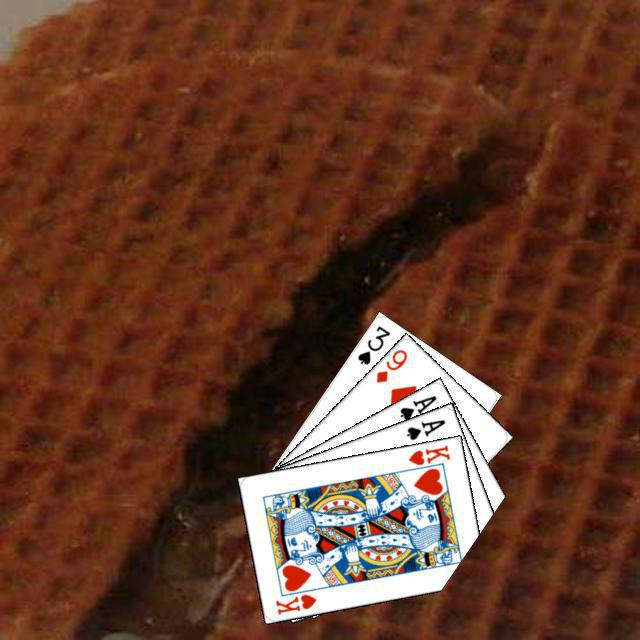3s: (352, 321, 392, 367)
9d: (371, 344, 409, 385)
As: (395, 390, 439, 422), (401, 414, 447, 442)
Kh: (401, 440, 452, 473), (271, 589, 318, 616)
